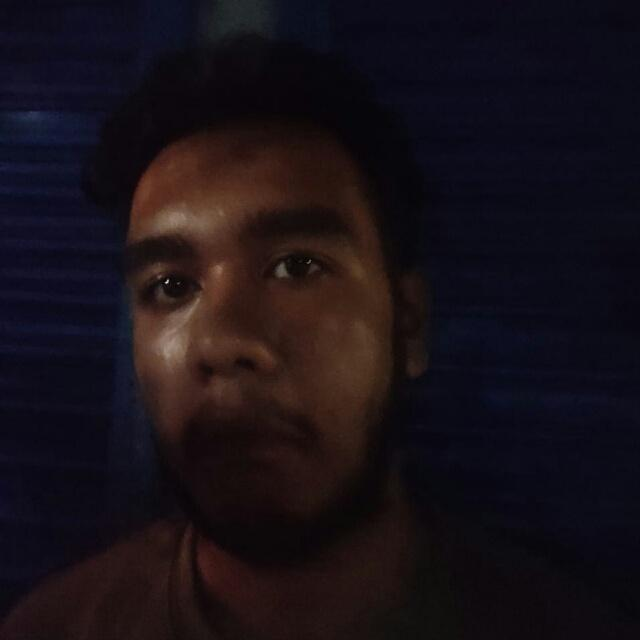Sad: (117, 112, 466, 613)
